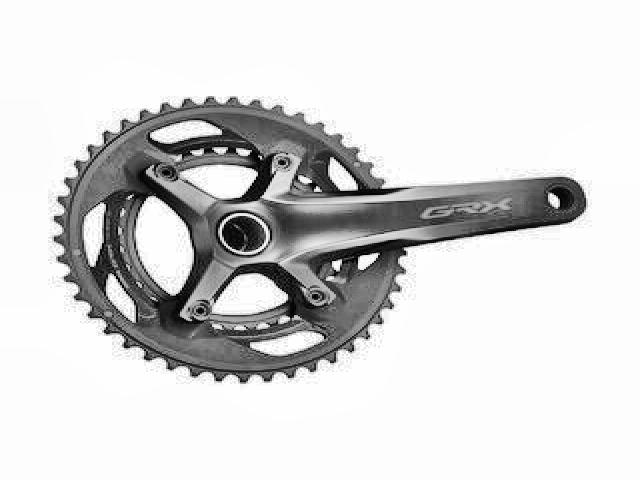cranks_set: (51, 95, 590, 384)
